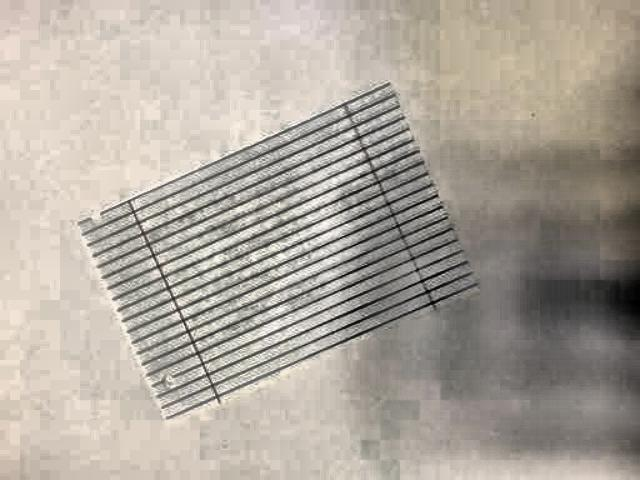Paper: (79, 84, 484, 424)
